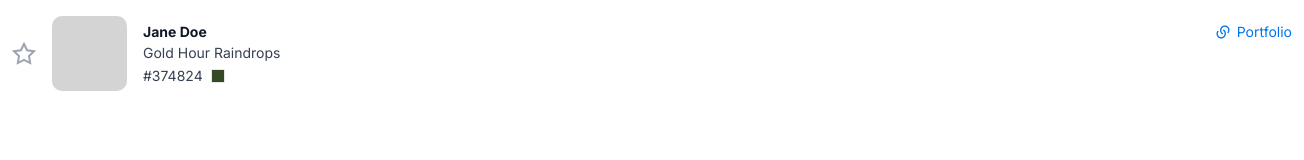
Test: PhotoCard › toggles like on click
The image size is (1304, 160).
Later steps or results of the test are not shown.
Click the button named "Like photo".
click(24, 54)  # box [12,42,36,66]
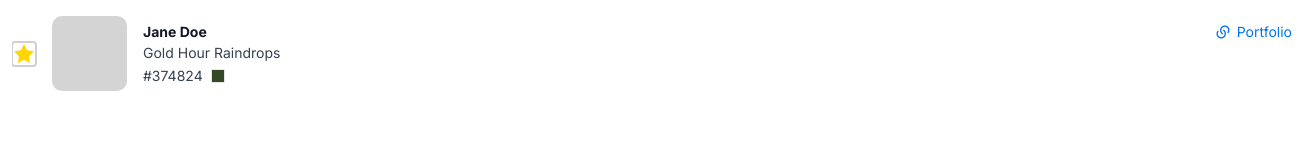
Check: the button named "Unlike photo" is shown, box [12,42,36,66]
